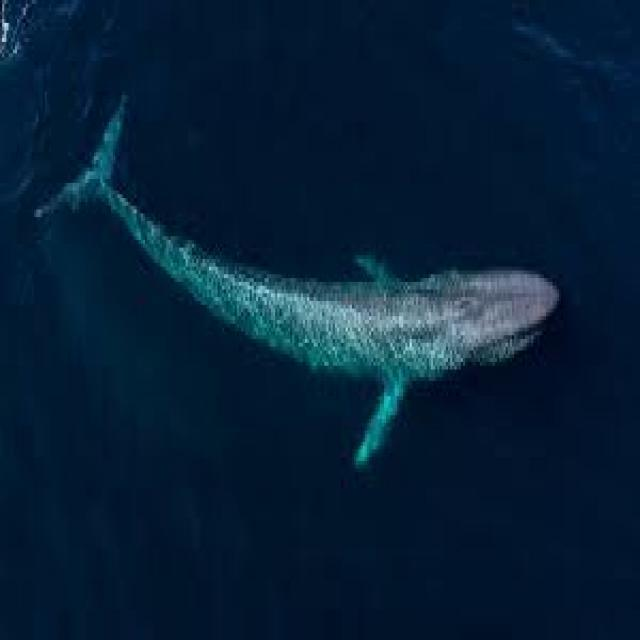blue_whale: (34, 84, 589, 545)
